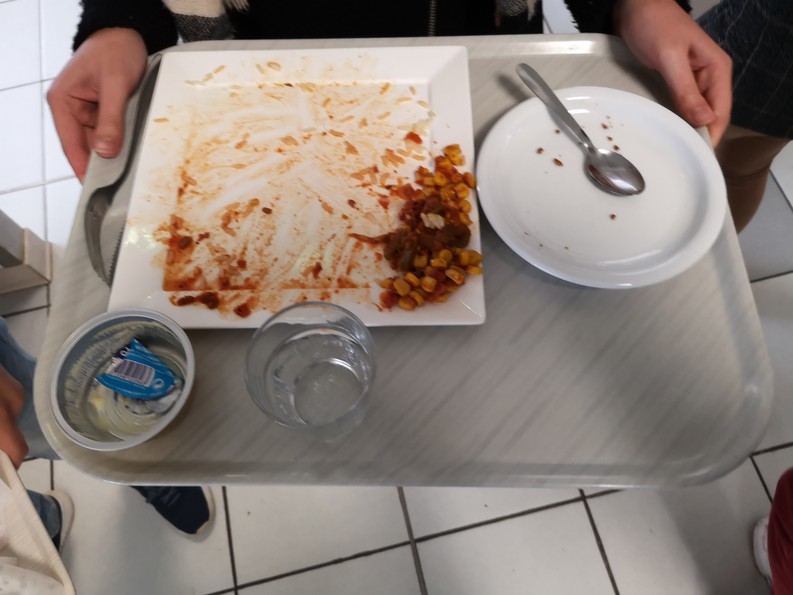cup: (234, 300, 379, 434)
cutlery: (505, 54, 656, 202), (78, 48, 169, 292)
orga: (371, 152, 477, 306)
trash: (57, 312, 203, 463)
